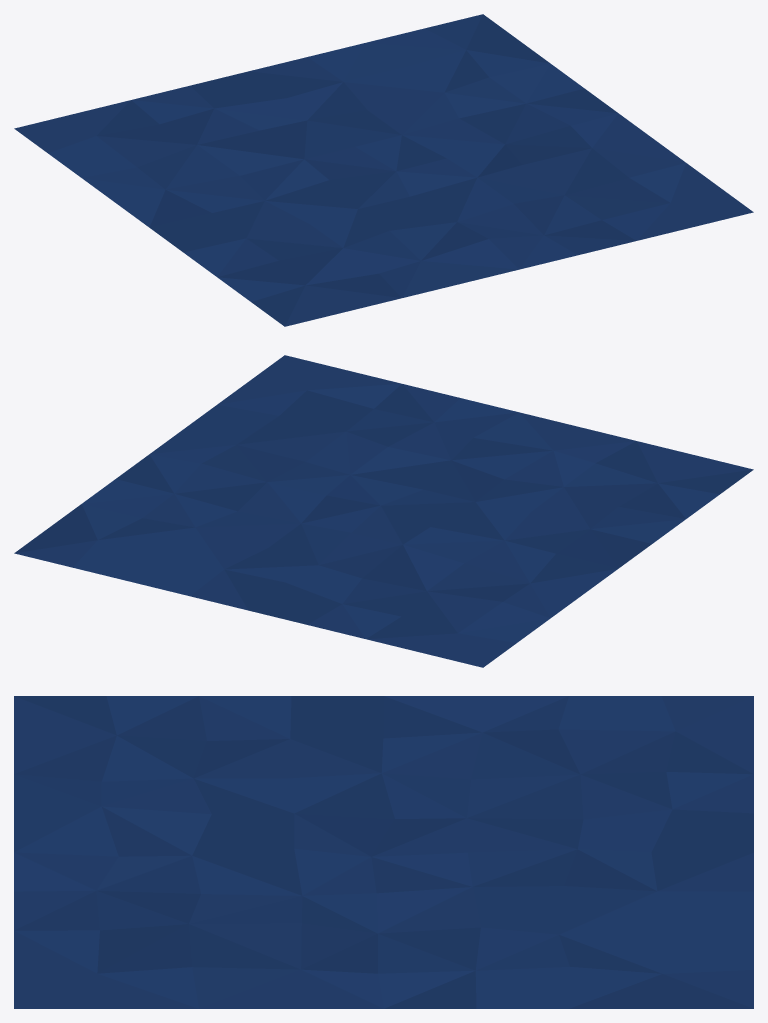
The model's file is ground_deep_water_a.glb.
3 renders of one model, top to bottom at view 1: azimuth 30°, elevation 25°; view 2: azimuth 150°, elevation 25°; view 3: azimuth 270°, elevation 25°, orthographic. The views are drawn at different scales.
Parts seen in each view (by area): view 1: ground_deep_water_a; view 2: ground_deep_water_a; view 3: ground_deep_water_a.
Boxes of the visible parts, x1=… form: ground_deep_water_a: x1=14, y1=14, x2=753, y2=326; ground_deep_water_a: x1=14, y1=355, x2=753, y2=667; ground_deep_water_a: x1=14, y1=696, x2=753, y2=1008.
Bounding box in the file's own units: 4 × 0.0231 × 4.
